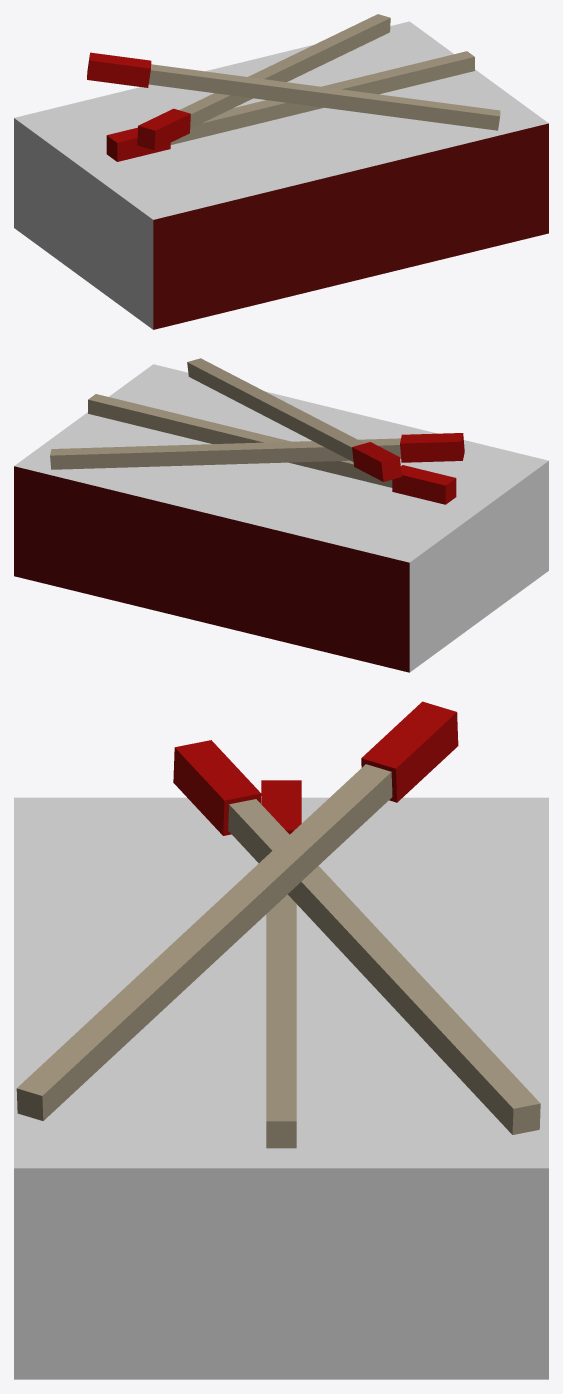
Rendered from Match.fbx.
3 views of the same model, one above another, from view 1: azimuth 30°, elevation 25°; view 2: azimuth 150°, elevation 25°; view 3: azimuth 270°, elevation 25° (orthographic). The views are drawn at different scales.
Parts seen in each view (by area): view 1: Match; view 2: Match; view 3: Match.
Boxes of the visible parts, box(x1,y1,x2,y2) form: Match: box(14, 14, 548, 329); Match: box(14, 358, 548, 672); Match: box(14, 701, 548, 1379).
Size of the model in its own units: 7 by 3.06 by 4.27.
